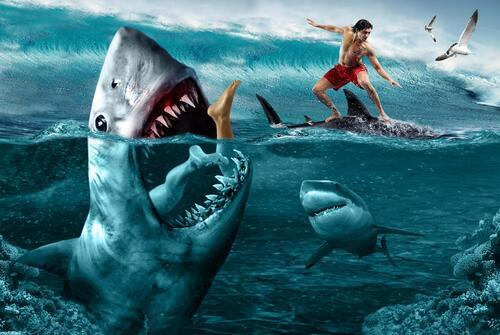shark: (16, 26, 254, 335), (245, 88, 460, 159), (300, 180, 425, 270)
